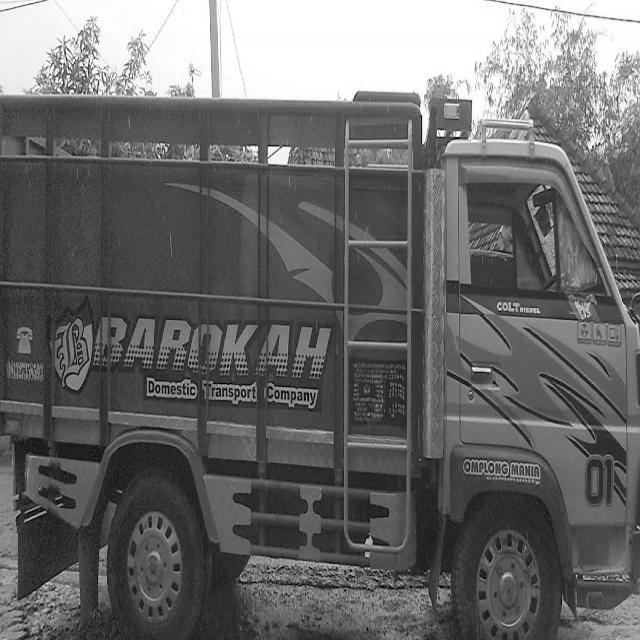truck: (389, 98, 640, 640)
